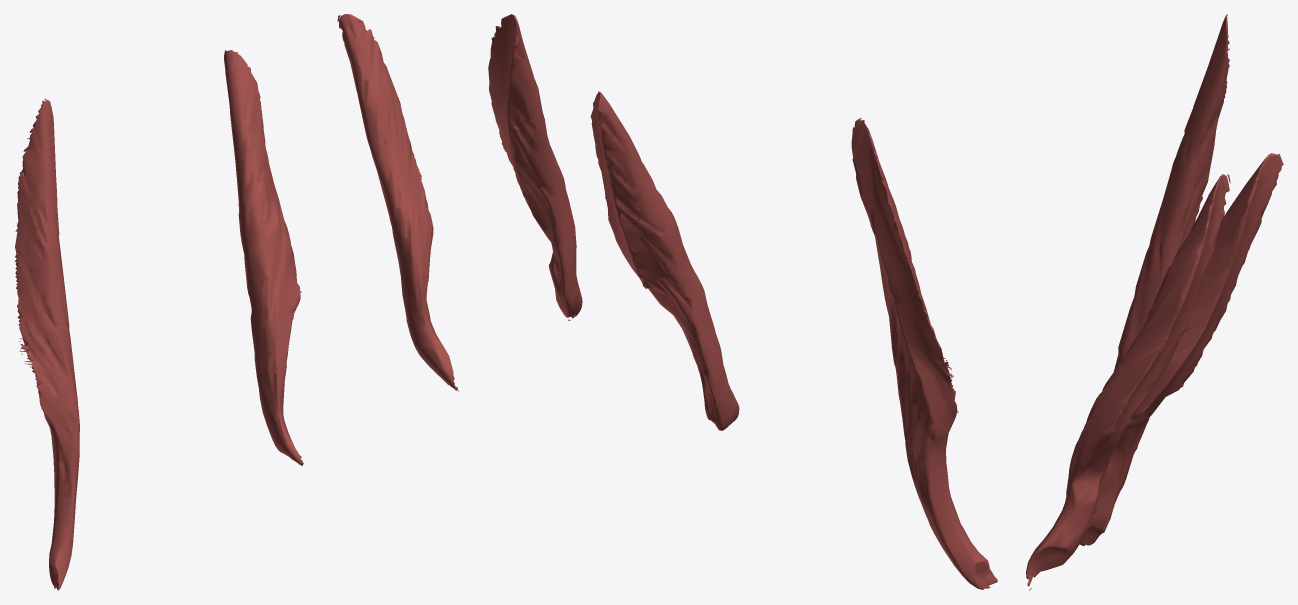
File: FMA42402.glb
The picture shows the model from 3 angles, left to right: view 1: azimuth 30°, elevation 25°; view 2: azimuth 150°, elevation 25°; view 3: azimuth 270°, elevation 25°; orthographic projection. The views are drawn at different scales.
Visible parts, largest first — view 1: FMA42402; view 2: FMA42402; view 3: FMA42402.
Boxes of the visible parts, <box> form: FMA42402: <box>14,14,458,590</box>; FMA42402: <box>488,14,997,589</box>; FMA42402: <box>1026,14,1283,590</box>.
Size of the model in its own units: 0.0474 by 0.0515 by 0.0222.
